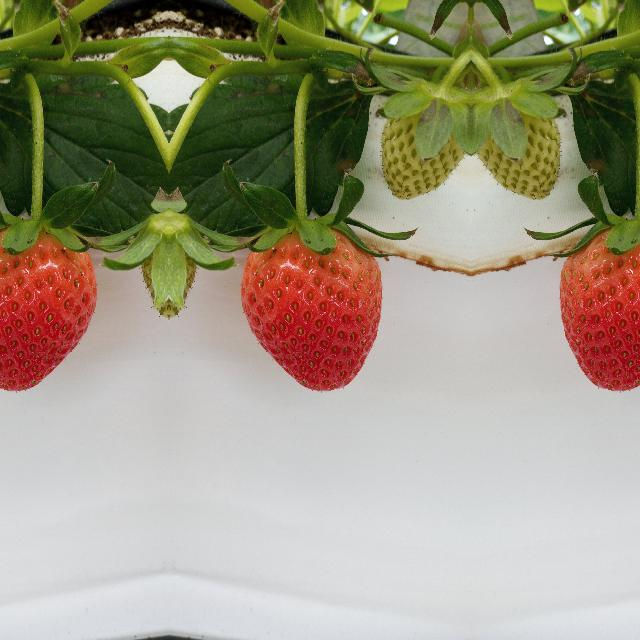Health_100: (238, 225, 382, 393), (0, 225, 98, 393), (559, 225, 640, 393)
Health_25: (370, 62, 470, 202), (471, 62, 571, 202)
